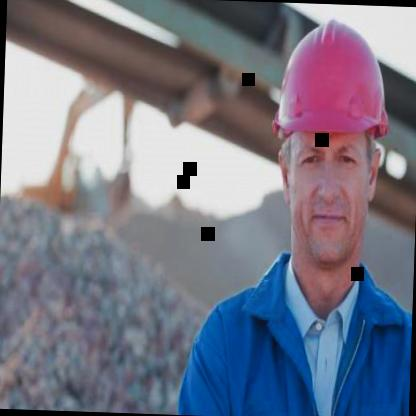helmet: (254, 13, 404, 300)
